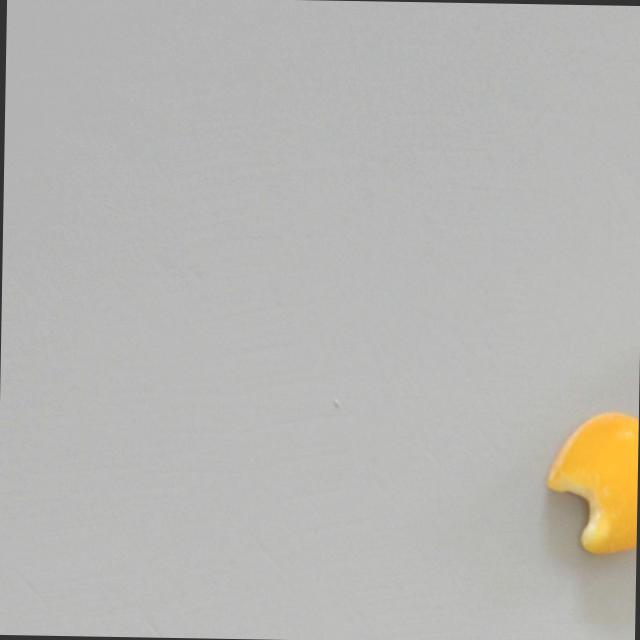no_canjicado: (537, 406, 639, 561)
